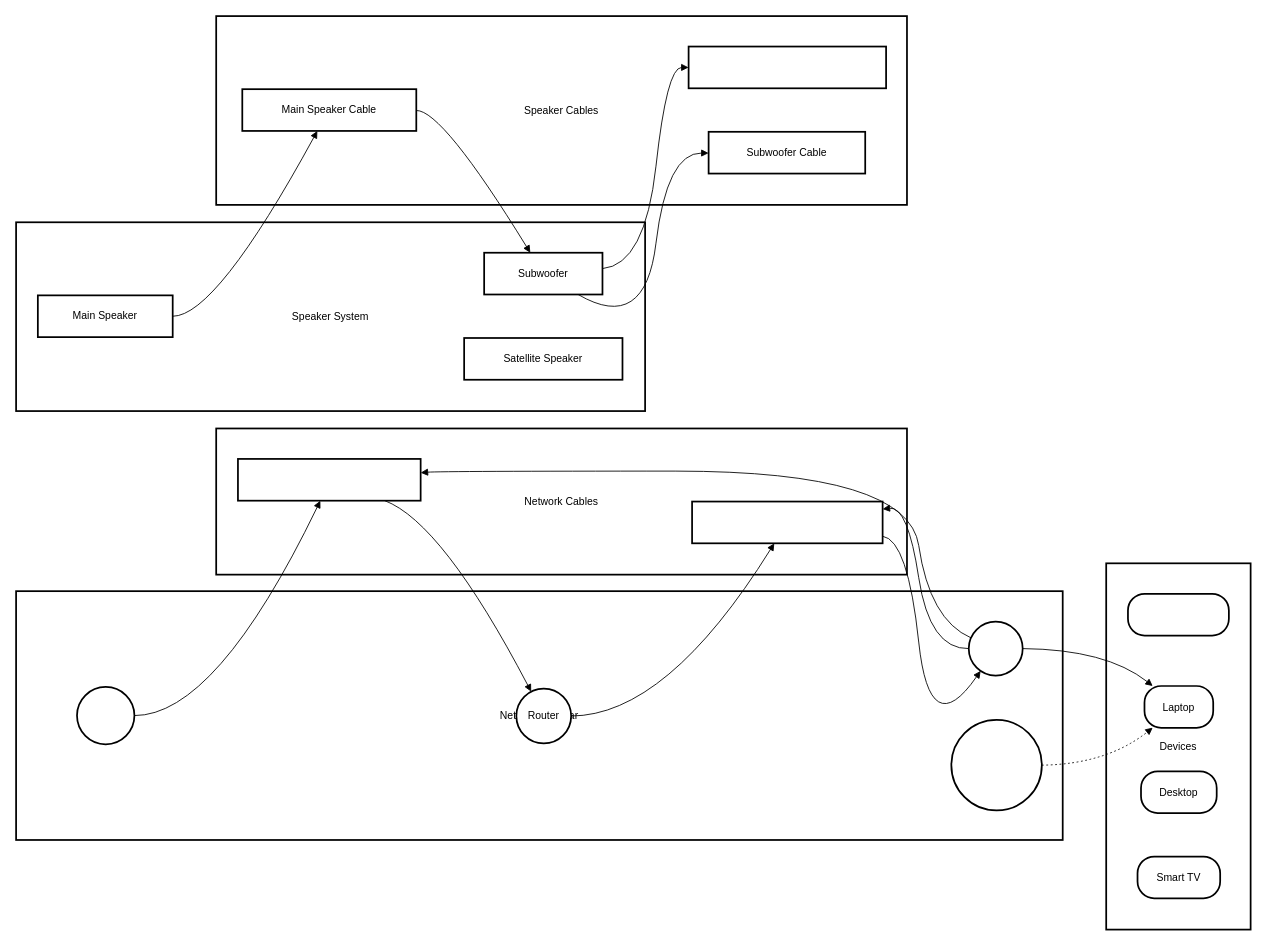
Image size: 1266x945. Some labels were removed from this diagram. The centre of each missing label's shape, as x and y in pixels:
Access Point: (x=996, y=765)
Cat 5e Ethernet Cable: (x=787, y=522)
Cat 6 Ethernet Cable: (x=329, y=479)
Modem: (x=105, y=715)
Satellite Speaker Cable: (x=787, y=67)
Smartphone: (x=1178, y=614)
Switch: (x=995, y=648)
